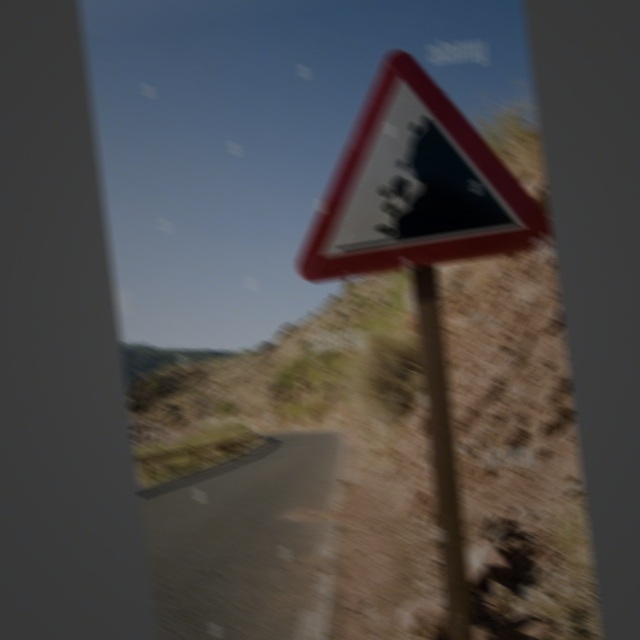Falling_Rocks: (303, 41, 538, 266)
